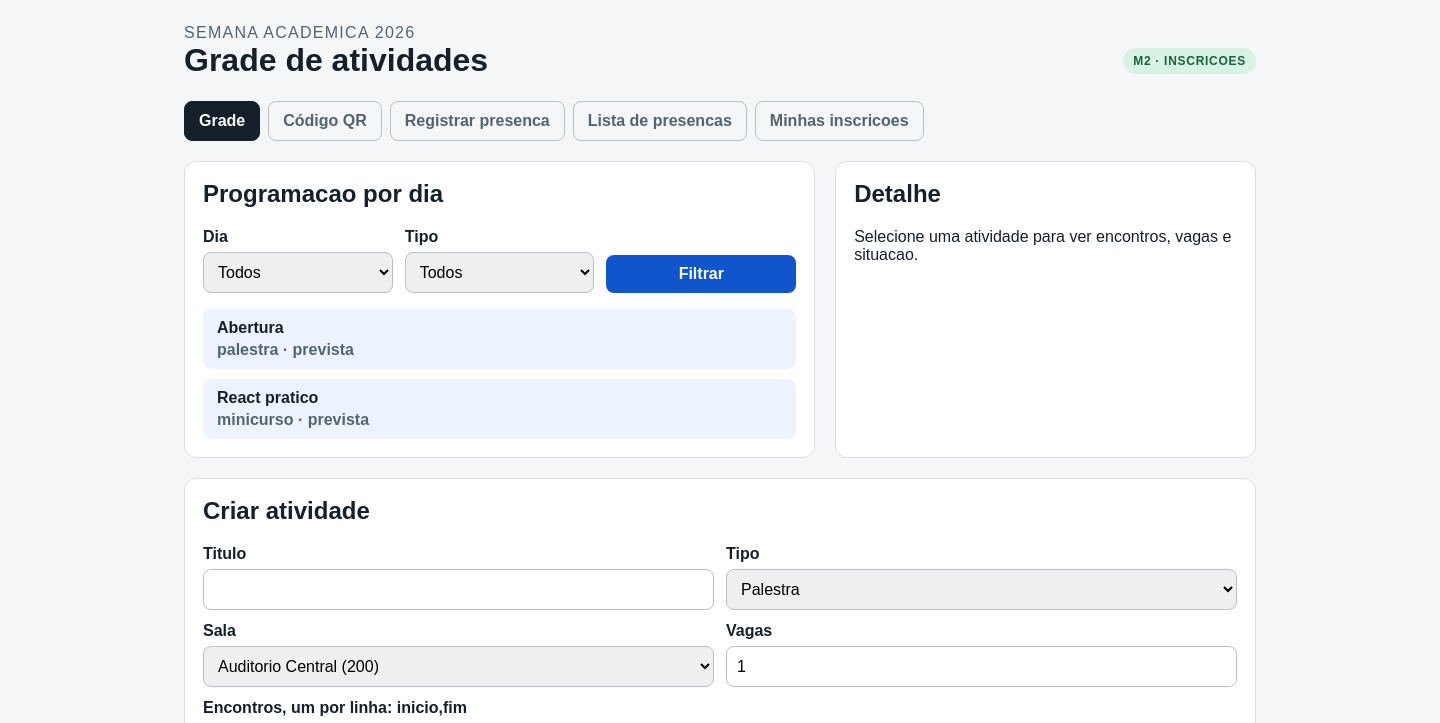
Test: M3 presenca por QR › lista presencas do encontro para a organizacao
Click the button "Lista de presencas": (660, 121) [573,101,747,141]
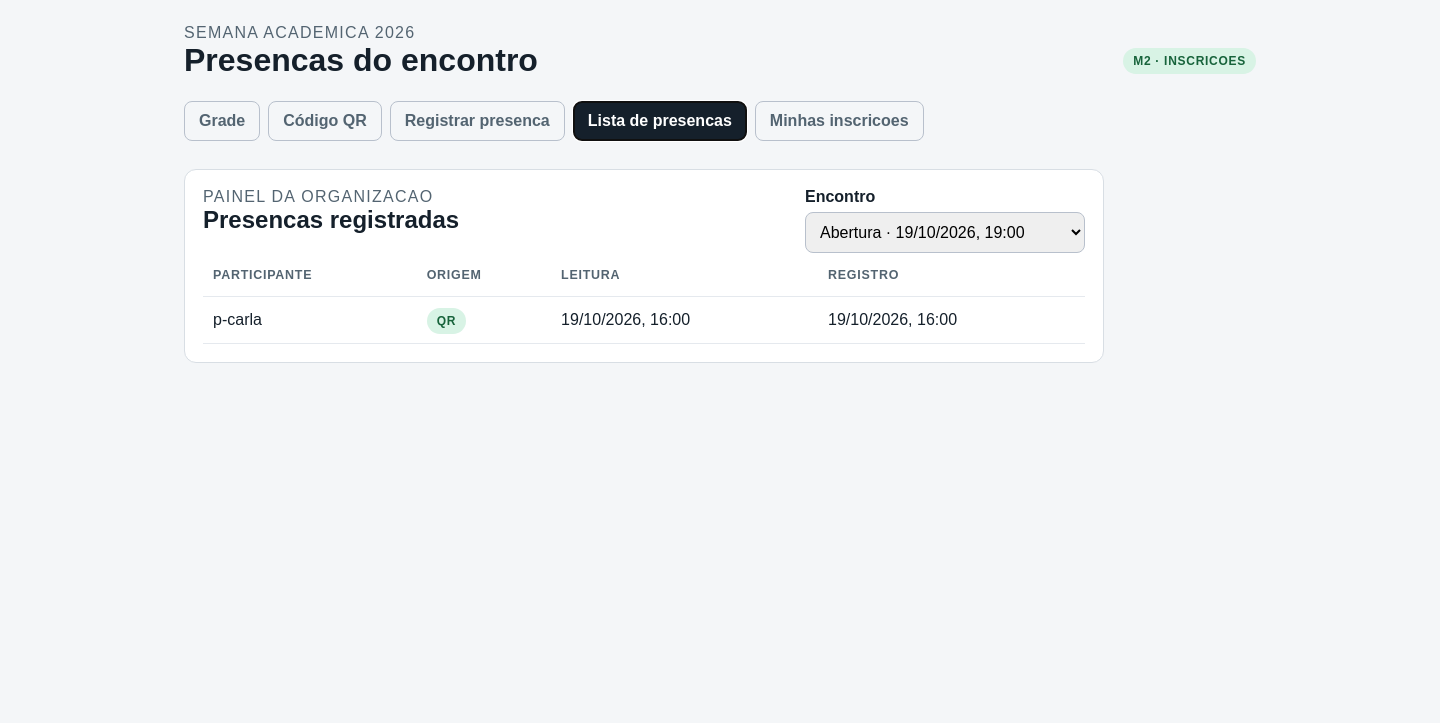
Now the heading "Presencas registradas" is shown, box [203,206,459,234]
Now the text "p-carla" is shown, box [203,296,417,343]
Now the text "qr" is shown, box [427,308,466,334]
